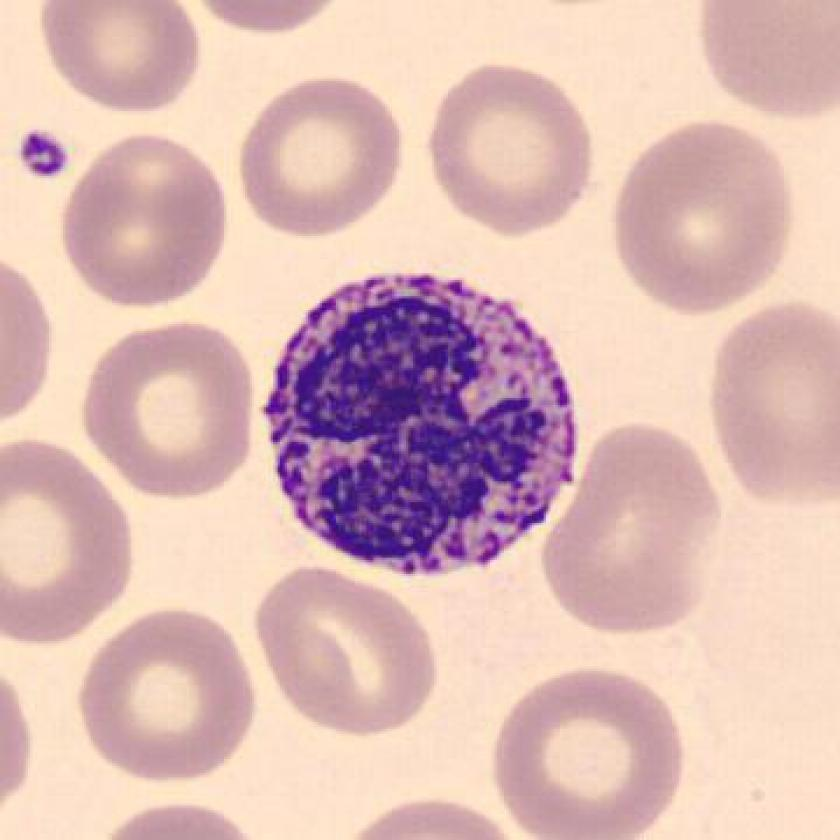basophil: (260, 267, 596, 580)
